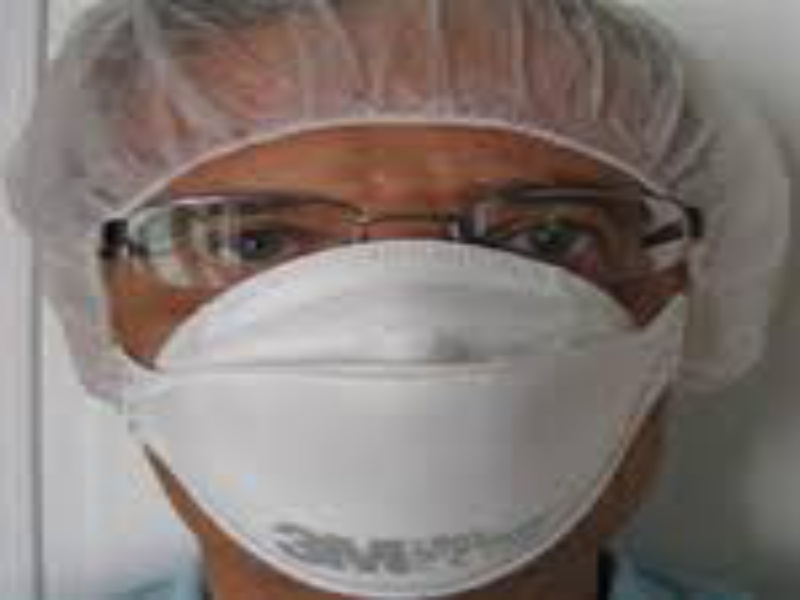ManaoArotava: (18, 10, 759, 599)
